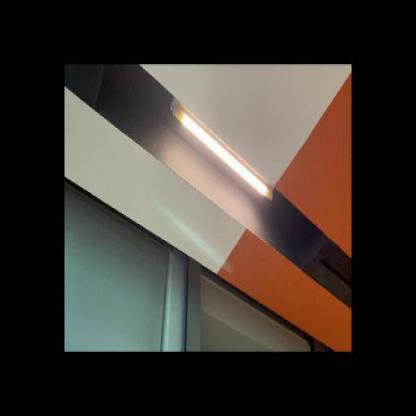light_on: (160, 96, 275, 223)
